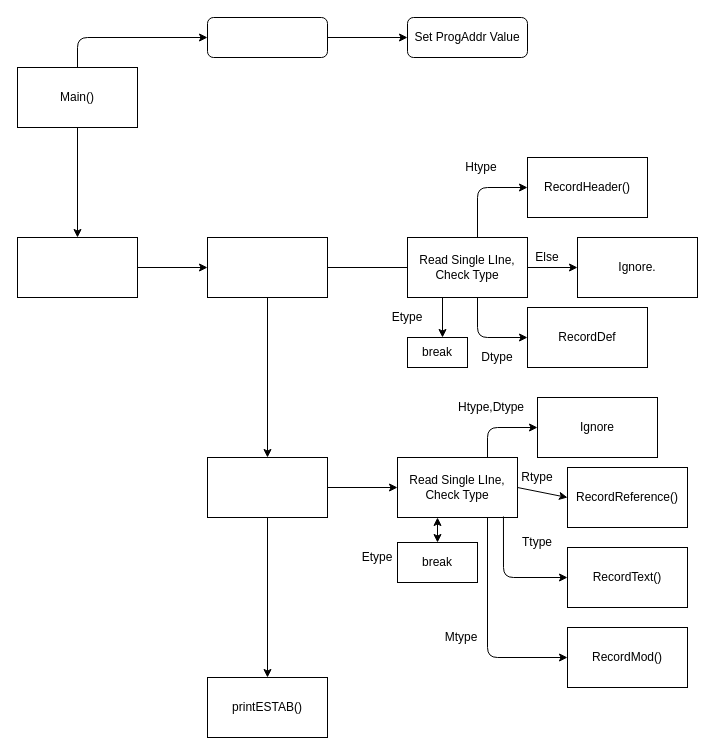
Some shapes in this 715 by 755 pixel diagram are drawn without their labels. The shapes that lost their labels are listed below. From the top down, each one's centre as x and y in pixels, then its label:
At (x=267, y=37): "ProgAddr".
At (x=77, y=267): "LinkAndLoad".
At (x=267, y=267): "Pass1()".
At (x=267, y=487): "Pass2()".
